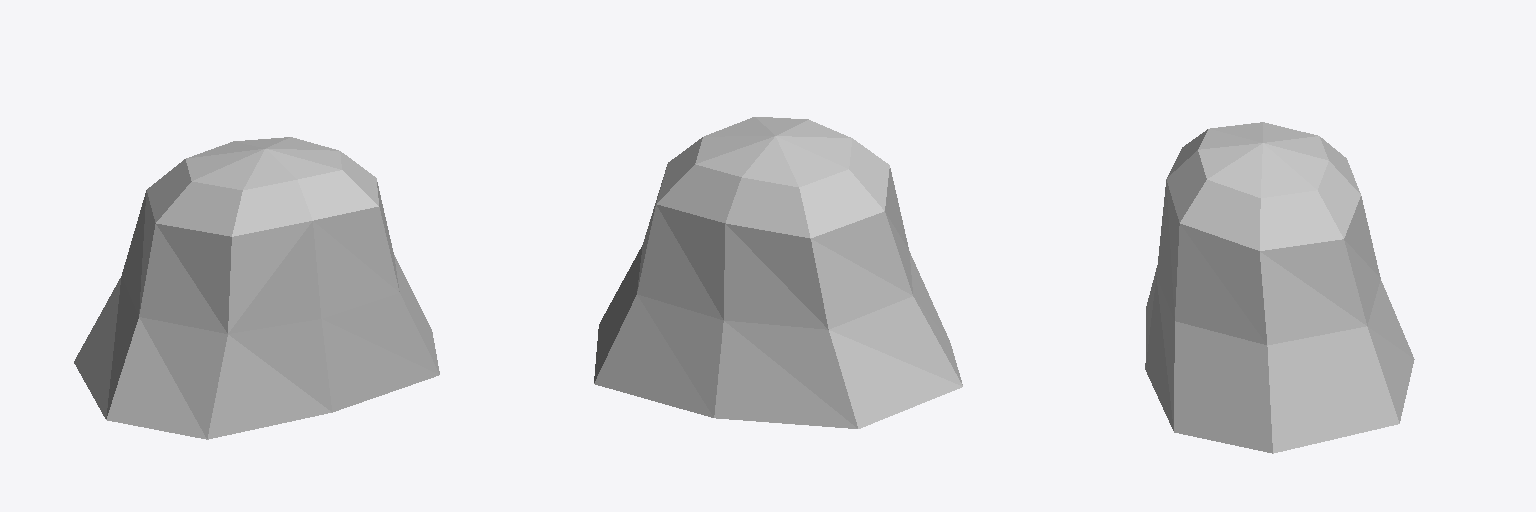
File: shirt bottom.obj
The picture shows the model from 3 angles: view 1: azimuth 30°, elevation 25°; view 2: azimuth 150°, elevation 25°; view 3: azimuth 270°, elevation 25°; orthographic projection.
Visible parts, largest first — view 1: model459.005; view 2: model459.005; view 3: model459.005.
Part boxes in pixels (x1,y1,x2,y2): model459.005: (74,137,439,439); model459.005: (594,117,962,428); model459.005: (1145,122,1414,453).
Bounding box in the file's own units: 3.58 × 2.25 × 2.42.